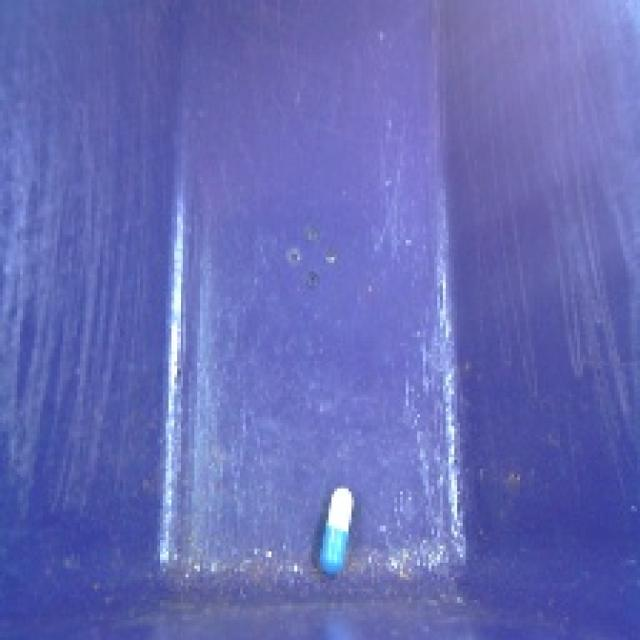small: (312, 482, 360, 577)
